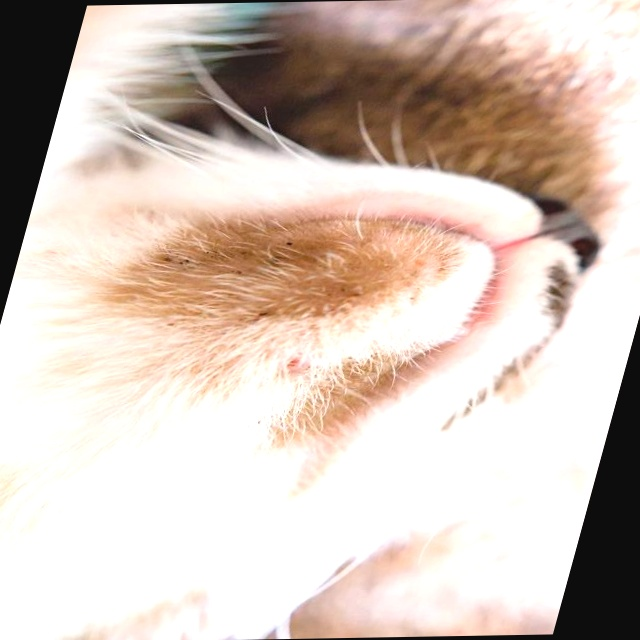acne: (121, 215, 377, 343)
